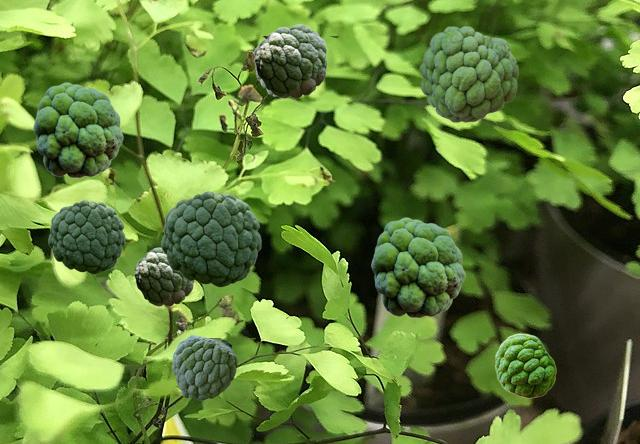atis: (161, 191, 260, 286), (419, 26, 517, 121), (371, 217, 464, 317), (33, 82, 122, 177), (48, 200, 124, 273), (254, 24, 326, 97), (253, 36, 338, 96), (172, 335, 236, 399), (495, 333, 555, 397), (134, 247, 193, 305), (213, 338, 254, 347)
